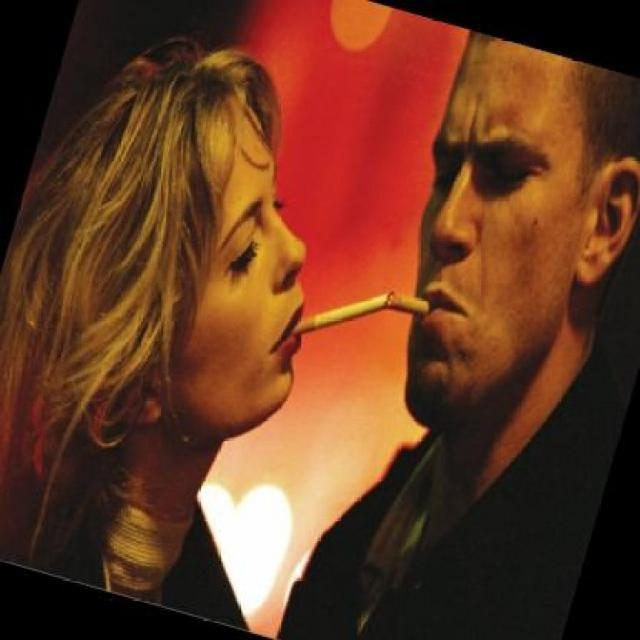smoke: (288, 265, 396, 363), (387, 289, 436, 322)
